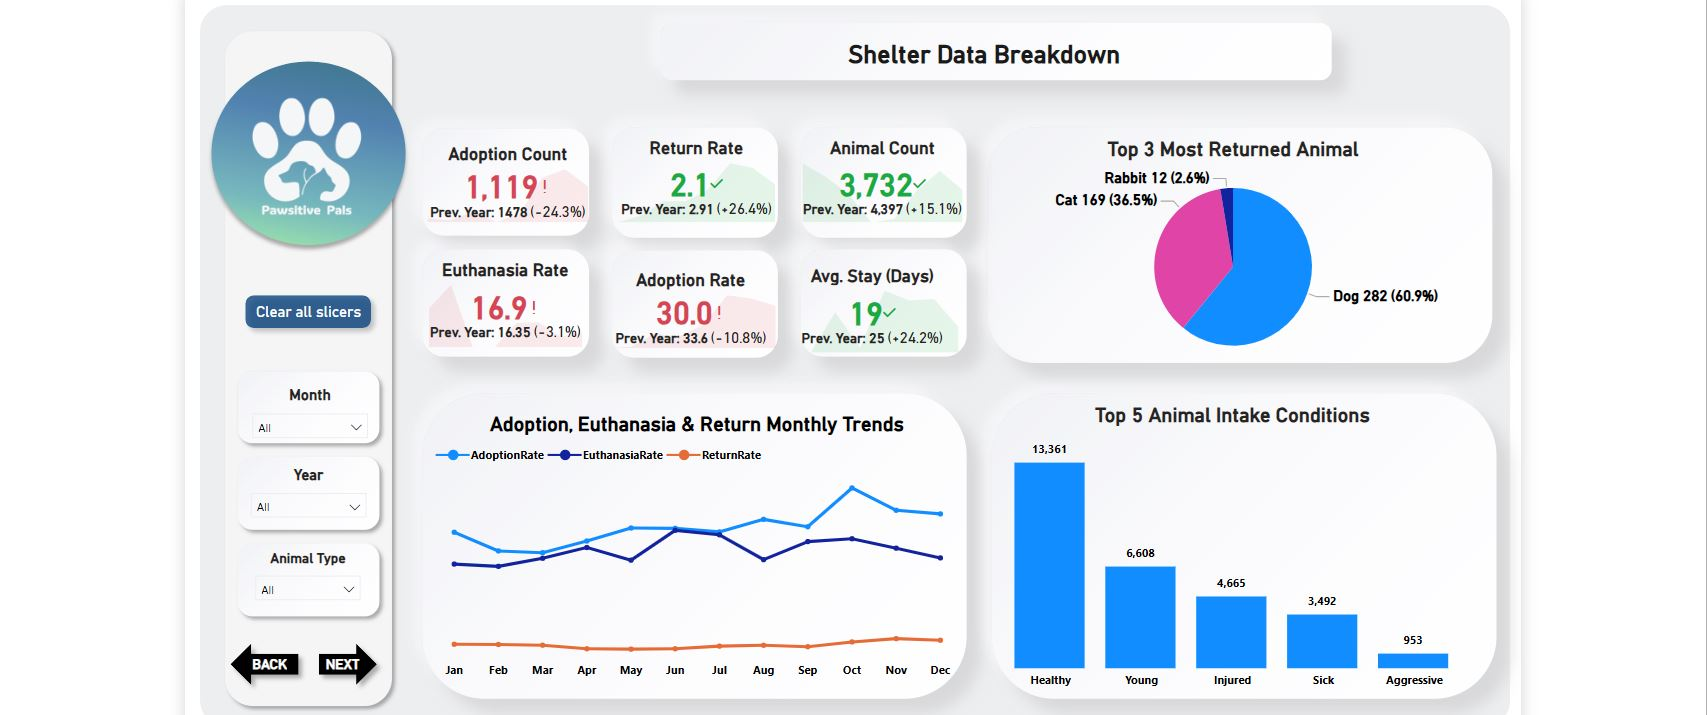

This screenshot's page, from the dashboard's own definition file:
{"tool":"powerbi","page":{"name":"Details Page","canvas":[1280,720],"ordinal":1},"visuals":[{"type":"textbox","box":[583.6,39.9,364.9,45.9],"z":0},{"type":"image","box":[10.1,63.3,215.7,181.2],"z":1000},{"type":"slicer","title":"Animal Type","fields":{"Values":["Dim animal.type"]},"box":[58,535.3,120.8,54.4],"z":2000},{"type":"lineChart","title":"Adoption, Euthanasia & Return  Monthly Trends","fields":{"Y":["MeasureTable.AdoptionRate","MeasureTable.EuthanasiaRate","MeasureTable.ReturnRate"],"Category":["Date.Month Short"]},"box":[235.6,403.3,510,264.4],"z":3000},{"type":"columnChart","title":"Top 5 Animal Intake Conditions","fields":{"Category":["Dim intake condition.intakecondition"],"Y":["MeasureTable.Animal_Count"]},"box":[755.7,394.6,498.4,282.2],"z":4000},{"type":"slicer","title":"Month","fields":{"Values":["Date.Month"]},"box":[54.4,378.2,130.5,50.7],"z":5000},{"type":"slicer","title":"Year","fields":{"Values":["Date.Year"]},"box":[53.2,454.3,130.5,55.6],"z":6000},{"type":"pieChart","title":"Top 3 Most Returned Animal","fields":{"Category":["Dim animal.type"],"Y":["MeasureTable.ReturneesCount"]},"box":[766.5,135.2,499,225.8],"z":7000},{"type":"kpi","title":"Euthanasia Rate","fields":{"TrendLine":["Date.Year"],"Indicator":["MeasureTable.EuthanasiaRate"],"Goal":["MeasureTable.EuthanasiaRate SPLY"]},"box":[229.2,256.2,156.8,89.7],"z":8000},{"type":"kpi","title":"Adoption Rate","fields":{"TrendLine":["Date.Year"],"Goal":["MeasureTable.AdoptionRate SPLY"],"Indicator":["MeasureTable.AdoptionRate"]},"box":[397.9,265.7,172.9,80],"z":9000},{"type":"kpi","title":"Return Rate","fields":{"TrendLine":["Date.Year"],"Indicator":["MeasureTable.ReturnRate"],"Goal":["MeasureTable.ReturnRate SPLY"]},"box":[410,139.3,160.7,86.4],"z":10000},{"type":"kpi","title":"Adoption Count","fields":{"Indicator":["MeasureTable.AdoptionCount"],"Goal":["MeasureTable.AdoptionCount SPLY"],"TrendLine":["Date.Year"]},"box":[227,145.9,164.3,80],"z":11000},{"type":"kpi","title":"Avg. Stay (Days)","fields":{"TrendLine":["Date.Year"],"Indicator":["MeasureTable.AverageLengthOfStay"],"Goal":["MeasureTable.AverageLengthofstay SPLY"]},"box":[570.9,261.7,175.4,89.2],"z":12000},{"type":"kpi","title":"Animal Count","fields":{"TrendLine":["Date.Year"],"Indicator":["MeasureTable.Animal_Count"],"Goal":["MeasureTable.Animal_Count SPLY"]},"box":[586.4,139.3,163.6,86.4],"z":13000},{"type":"actionButton","box":[48.3,281.5,139,49.5],"z":15000},{"type":"shape","box":[35,615,83.4,58],"z":16000},{"type":"shape","box":[119.6,615,73.7,58],"z":17000}]}

Visuals, with their boxes on the page's 1280x720 design canvas (x1, y1, x2, y2). These are canvas units, not pixel positions in the 1708x715 screenshot, which may show the page scaled, cropped or inside an application window:
textbox: (left=584, top=40, right=948, bottom=86)
image: (left=10, top=63, right=226, bottom=244)
"Animal Type" slicer: (left=58, top=535, right=179, bottom=590)
"Adoption, Euthanasia & Return  Monthly Trends" lineChart: (left=236, top=403, right=746, bottom=668)
"Top 5 Animal Intake Conditions" columnChart: (left=756, top=395, right=1254, bottom=677)
"Month" slicer: (left=54, top=378, right=185, bottom=429)
"Year" slicer: (left=53, top=454, right=184, bottom=510)
"Top 3 Most Returned Animal" pieChart: (left=766, top=135, right=1266, bottom=361)
"Euthanasia Rate" kpi: (left=229, top=256, right=386, bottom=346)
"Adoption Rate" kpi: (left=398, top=266, right=571, bottom=346)
"Return Rate" kpi: (left=410, top=139, right=571, bottom=226)
"Adoption Count" kpi: (left=227, top=146, right=391, bottom=226)
"Avg. Stay (Days)" kpi: (left=571, top=262, right=746, bottom=351)
"Animal Count" kpi: (left=586, top=139, right=750, bottom=226)
actionButton: (left=48, top=282, right=187, bottom=331)
shape: (left=35, top=615, right=118, bottom=673)
shape: (left=120, top=615, right=193, bottom=673)
